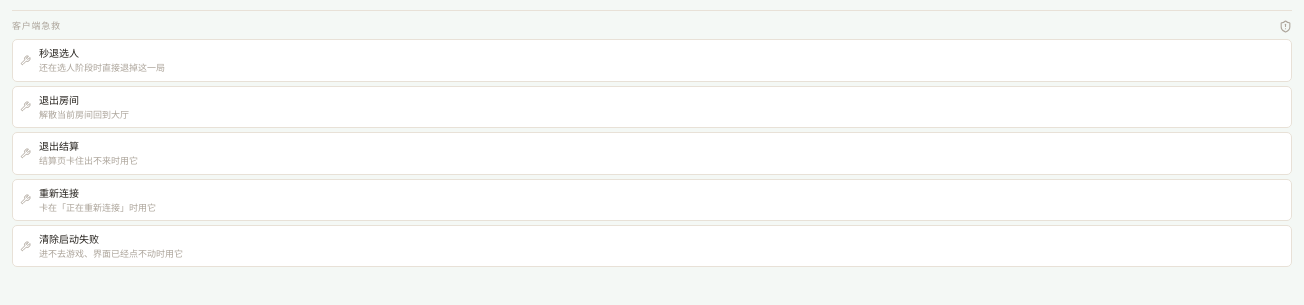
Test case: ClientFirstAid › 急救动作把失败原因写在结果行里，而不是抛出去
Step 1. Click the button "退出结算 结算页卡住出不来时用它" → (59, 146), box [12,132,1292,175]
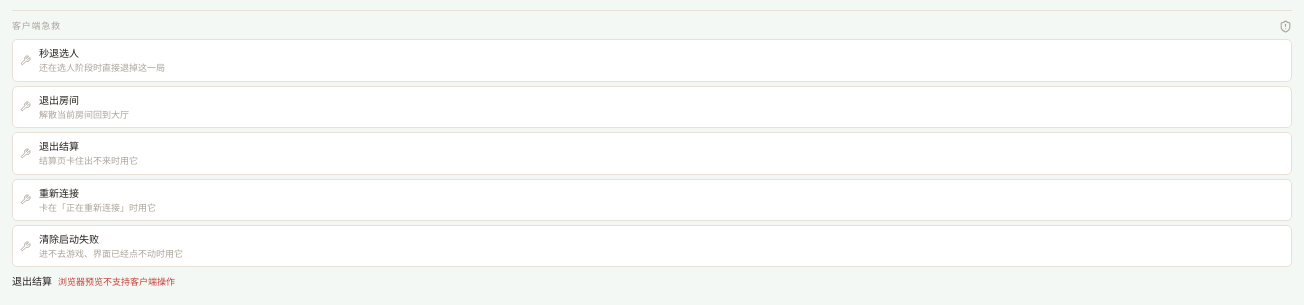
Now the element with class "game-first-aid__result" shows "浏览器预览不支持客户端操作", box [58,275,175,288]
